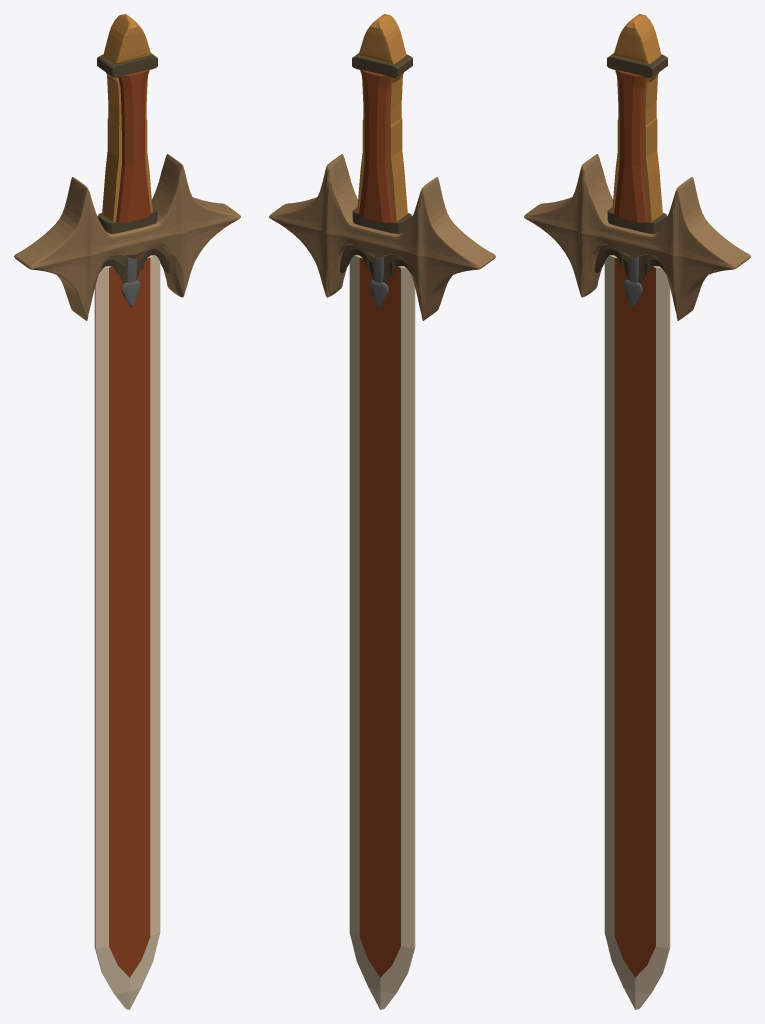
The model's file is Sword_1Testv2.fbx.
The picture shows the model from 3 angles, left to right: view 1: azimuth 30°, elevation 25°; view 2: azimuth 150°, elevation 25°; view 3: azimuth 330°, elevation 25°; orthographic projection.
Visible parts, largest first — view 1: Cube.007, Cube.001, Cube.002, Cube, Cube.011, Cube.003, Cube.009, Cube.008; view 2: Cube.007, Cube.001, Cube.002, Cube, Cube.011, Cube.003, Cube.009, Cube.008; view 3: Cube.007, Cube.001, Cube.002, Cube, Cube.011, Cube.003, Cube.009, Cube.008.
Part boxes in pixels (left/top/right/bottom): Cube.007: left=94, top=255, right=160, bottom=1009; Cube.001: left=14, top=154, right=240, bottom=320; Cube.002: left=109, top=69, right=150, bottom=222; Cube: left=102, top=70, right=152, bottom=221; Cube.011: left=103, top=14, right=151, bottom=63; Cube.003: left=99, top=244, right=170, bottom=283; Cube.009: left=97, top=53, right=157, bottom=77; Cube.008: left=97, top=207, right=157, bottom=233; Cube.007: left=349, top=255, right=415, bottom=1009; Cube.001: left=269, top=154, right=495, bottom=320; Cube.002: left=359, top=69, right=400, bottom=222; Cube: left=357, top=70, right=407, bottom=221; Cube.011: left=358, top=14, right=406, bottom=63; Cube.003: left=339, top=244, right=410, bottom=283; Cube.009: left=352, top=53, right=412, bottom=77; Cube.008: left=352, top=207, right=412, bottom=233; Cube.007: left=604, top=255, right=670, bottom=1009; Cube.001: left=524, top=154, right=750, bottom=320; Cube.002: left=614, top=69, right=655, bottom=222; Cube: left=612, top=70, right=662, bottom=221; Cube.011: left=613, top=14, right=661, bottom=63; Cube.003: left=594, top=244, right=665, bottom=284; Cube.009: left=607, top=53, right=667, bottom=77; Cube.008: left=607, top=207, right=667, bottom=233.
Size of the model in its own units: 75.79 by 339 by 13.
